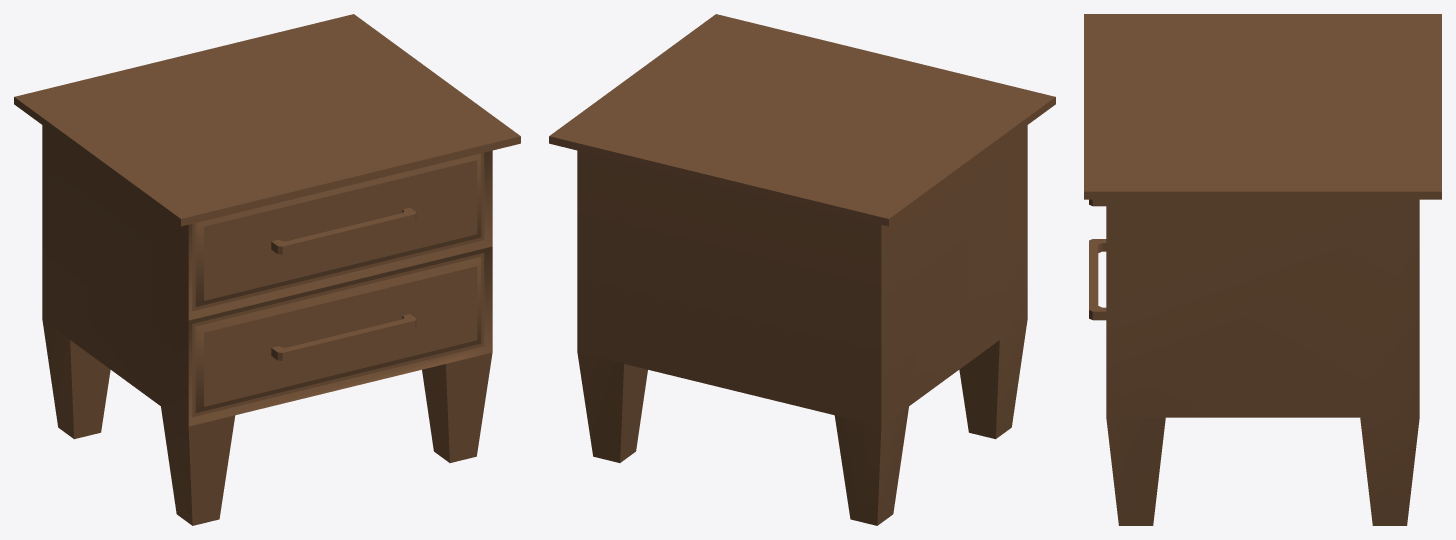
The model's file is Bedside_Table.fbx.
3 renders of one model, left to right at view 1: azimuth 30°, elevation 25°; view 2: azimuth 150°, elevation 25°; view 3: azimuth 270°, elevation 25°, orthographic. The views are drawn at different scales.
Parts seen in each view (by area): view 1: Bedside_Table; view 2: Bedside_Table; view 3: Bedside_Table.
Part boxes in pixels (x1,y1,x2,y2): Bedside_Table: (14, 14, 520, 525); Bedside_Table: (549, 14, 1055, 525); Bedside_Table: (1084, 14, 1441, 525).
Bounding box in the file's own units: 44.05 × 40.34 × 37.49.
Materials: 1 (1 with a texture image).
